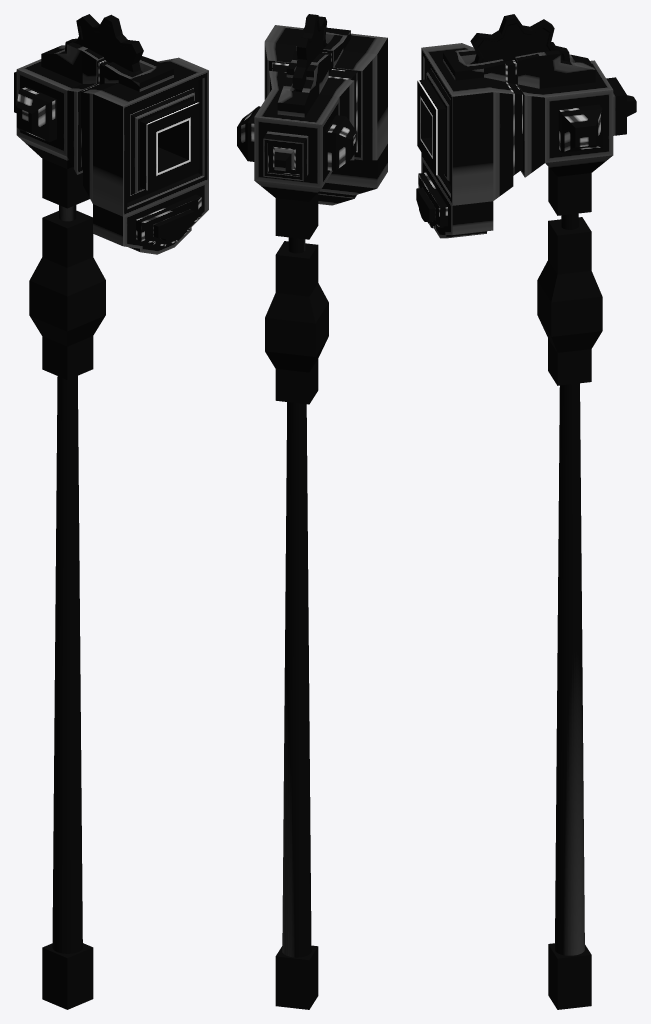
Rendered from Dispenser_2_0.fbx.
3 renders of one model, left to right at view 1: azimuth 30°, elevation 25°; view 2: azimuth 150°, elevation 25°; view 3: azimuth 270°, elevation 25°, orthographic. The views are drawn at different scales.
Parts seen in each view (by area): view 1: Dispenser, Dispenser_Prop_0, Dispenser_Prop_1, Gear; view 2: Dispenser, Dispenser_Prop_0, Dispenser_Prop_1, Gear; view 3: Dispenser, Dispenser_Prop_0, Dispenser_Prop_1, Gear.
Boxes of the visible parts, x1,y1,x2,y2 form: Dispenser: (14, 42, 208, 254); Dispenser_Prop_0: (42, 158, 93, 1009); Dispenser_Prop_1: (29, 210, 105, 379); Gear: (65, 14, 143, 74); Dispenser: (237, 25, 387, 205); Dispenser_Prop_0: (275, 192, 318, 1009); Dispenser_Prop_1: (265, 241, 328, 404); Gear: (292, 14, 327, 91); Dispenser: (416, 42, 636, 238); Dispenser_Prop_0: (548, 167, 591, 1009); Dispenser_Prop_1: (537, 217, 602, 385); Gear: (469, 14, 569, 64).
Bounding box in the file's own units: 1.29 × 9.08 × 1.83.
1 material, 1 textured.
